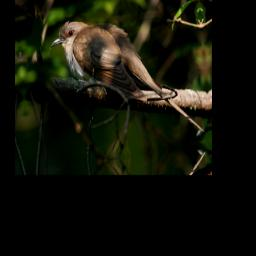Cuckoo: (48, 0, 204, 161)
